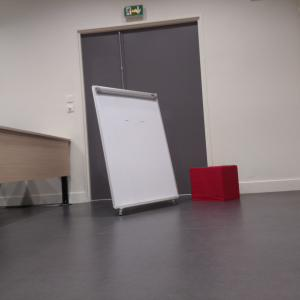big: (91, 84, 180, 210)
medium: (189, 166, 239, 202)
